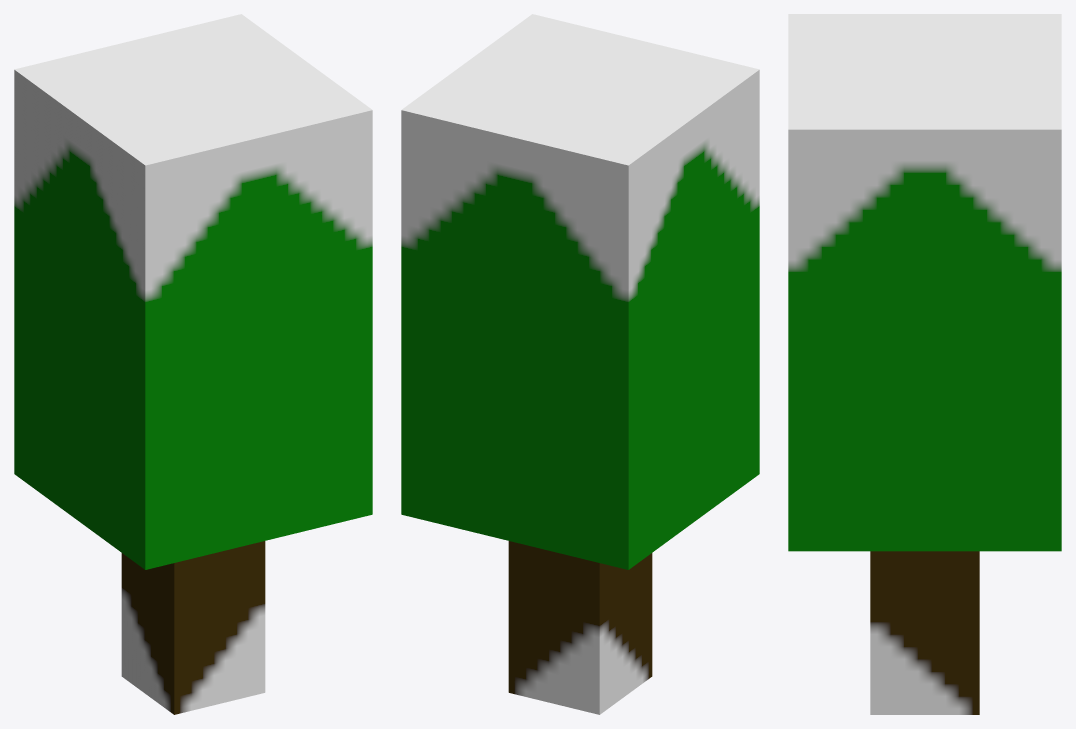
File: Pine_5.fbx
The picture shows the model from 3 angles, left to right: view 1: azimuth 30°, elevation 25°; view 2: azimuth 150°, elevation 25°; view 3: azimuth 270°, elevation 25°; orthographic projection. The views are drawn at different scales.
Parts seen in each view (by area): view 1: Pine_5; view 2: Pine_5; view 3: Pine_5.
Boxes of the visible parts, box(x1,y1,x2,y2) form: Pine_5: box(14, 14, 372, 714); Pine_5: box(401, 14, 759, 714); Pine_5: box(788, 14, 1061, 714).
Bounding box in the file's own units: 20 × 50 × 20.
1 material, 1 textured.
